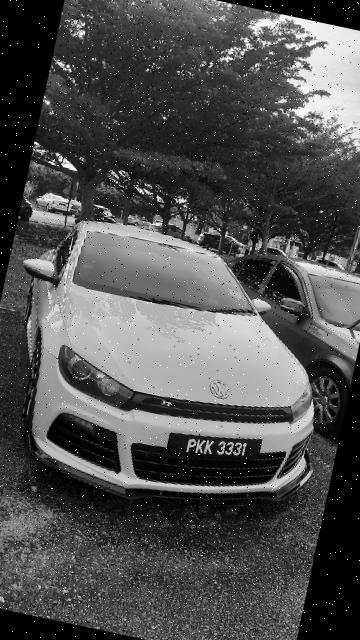License_Plate: (158, 415, 275, 484)
car: (1, 201, 360, 540)
